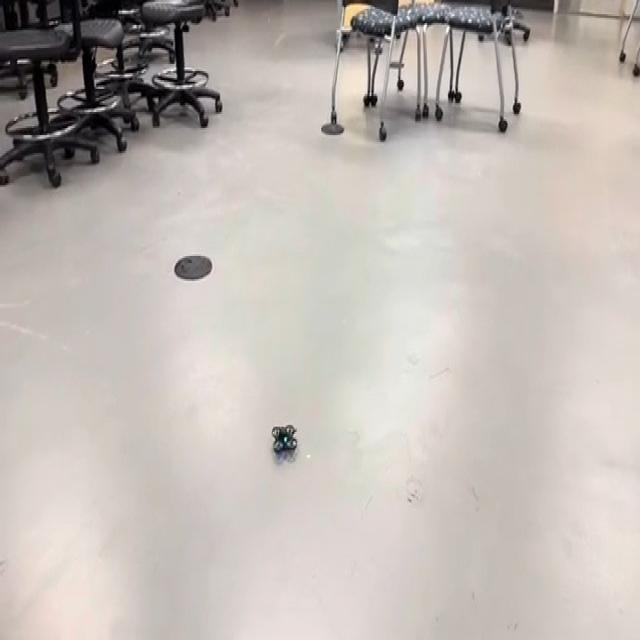drone: (267, 413, 302, 463)
